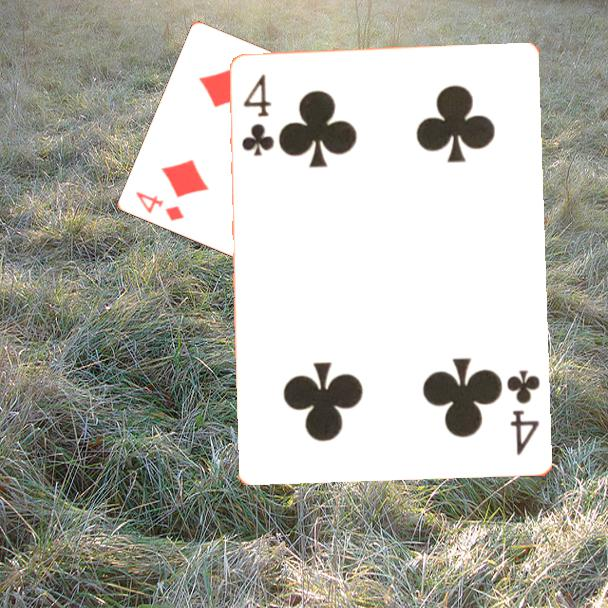c04: (503, 367, 543, 459), (238, 71, 276, 159)
d04: (133, 188, 188, 224)
